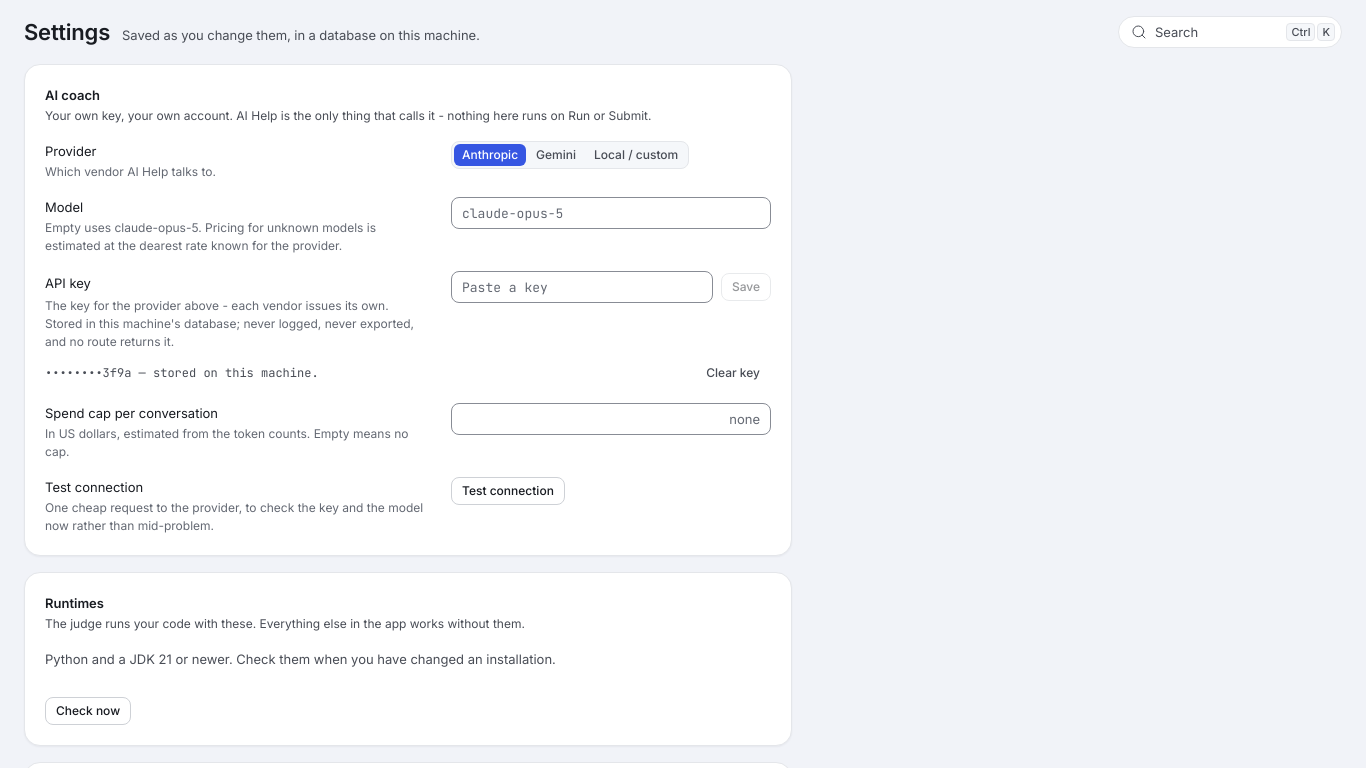
Test: Settings, coach section › offers Clear key only for a stored key, and clears with an empty string
The image size is (1366, 768).
Click the button "Clear key" at coordinates (733, 373), box [695, 359, 771, 387]
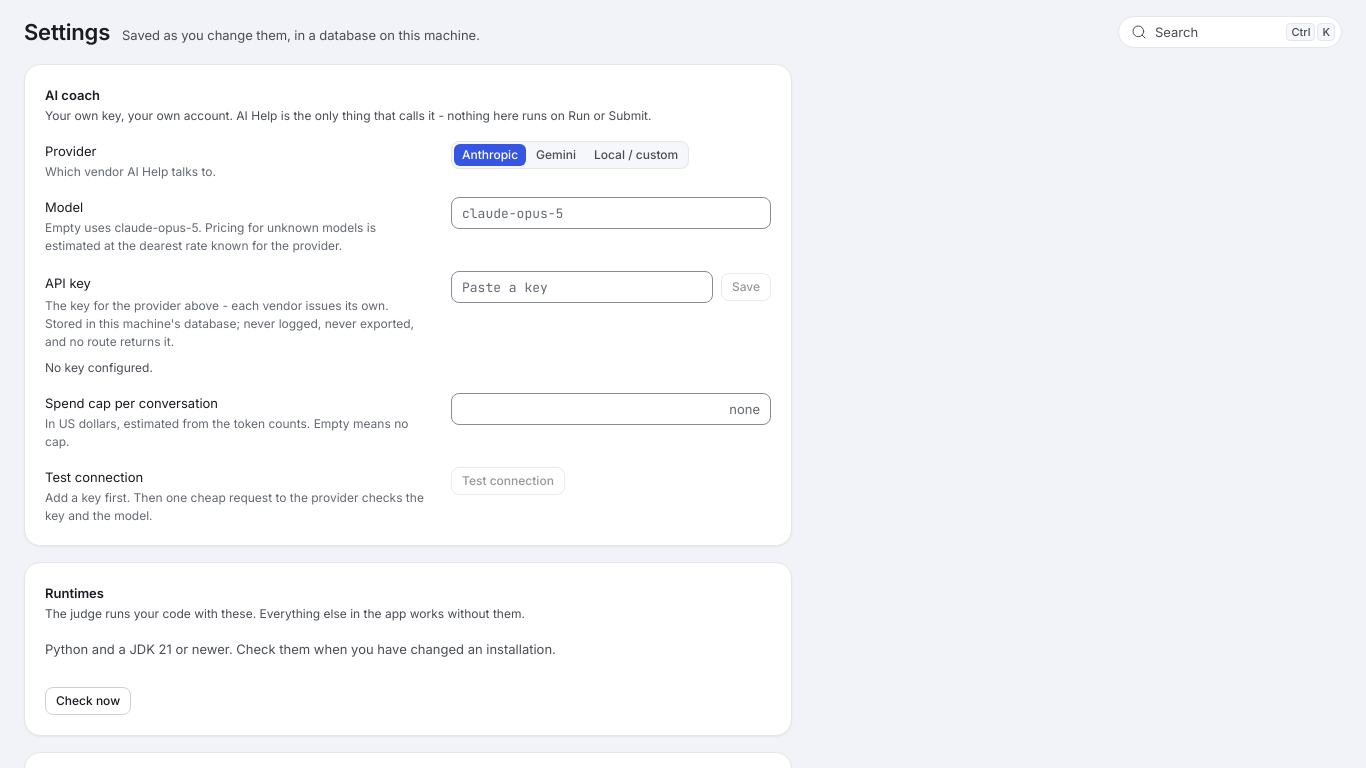
expect the button "Clear key" is gone: met
